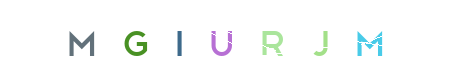G: (96, 0, 176, 80)
I: (162, 0, 242, 80)
J: (235, 0, 315, 80)
M: (65, 0, 145, 80), (330, 0, 410, 80)
R: (198, 0, 278, 80)
U: (182, 0, 262, 80)
